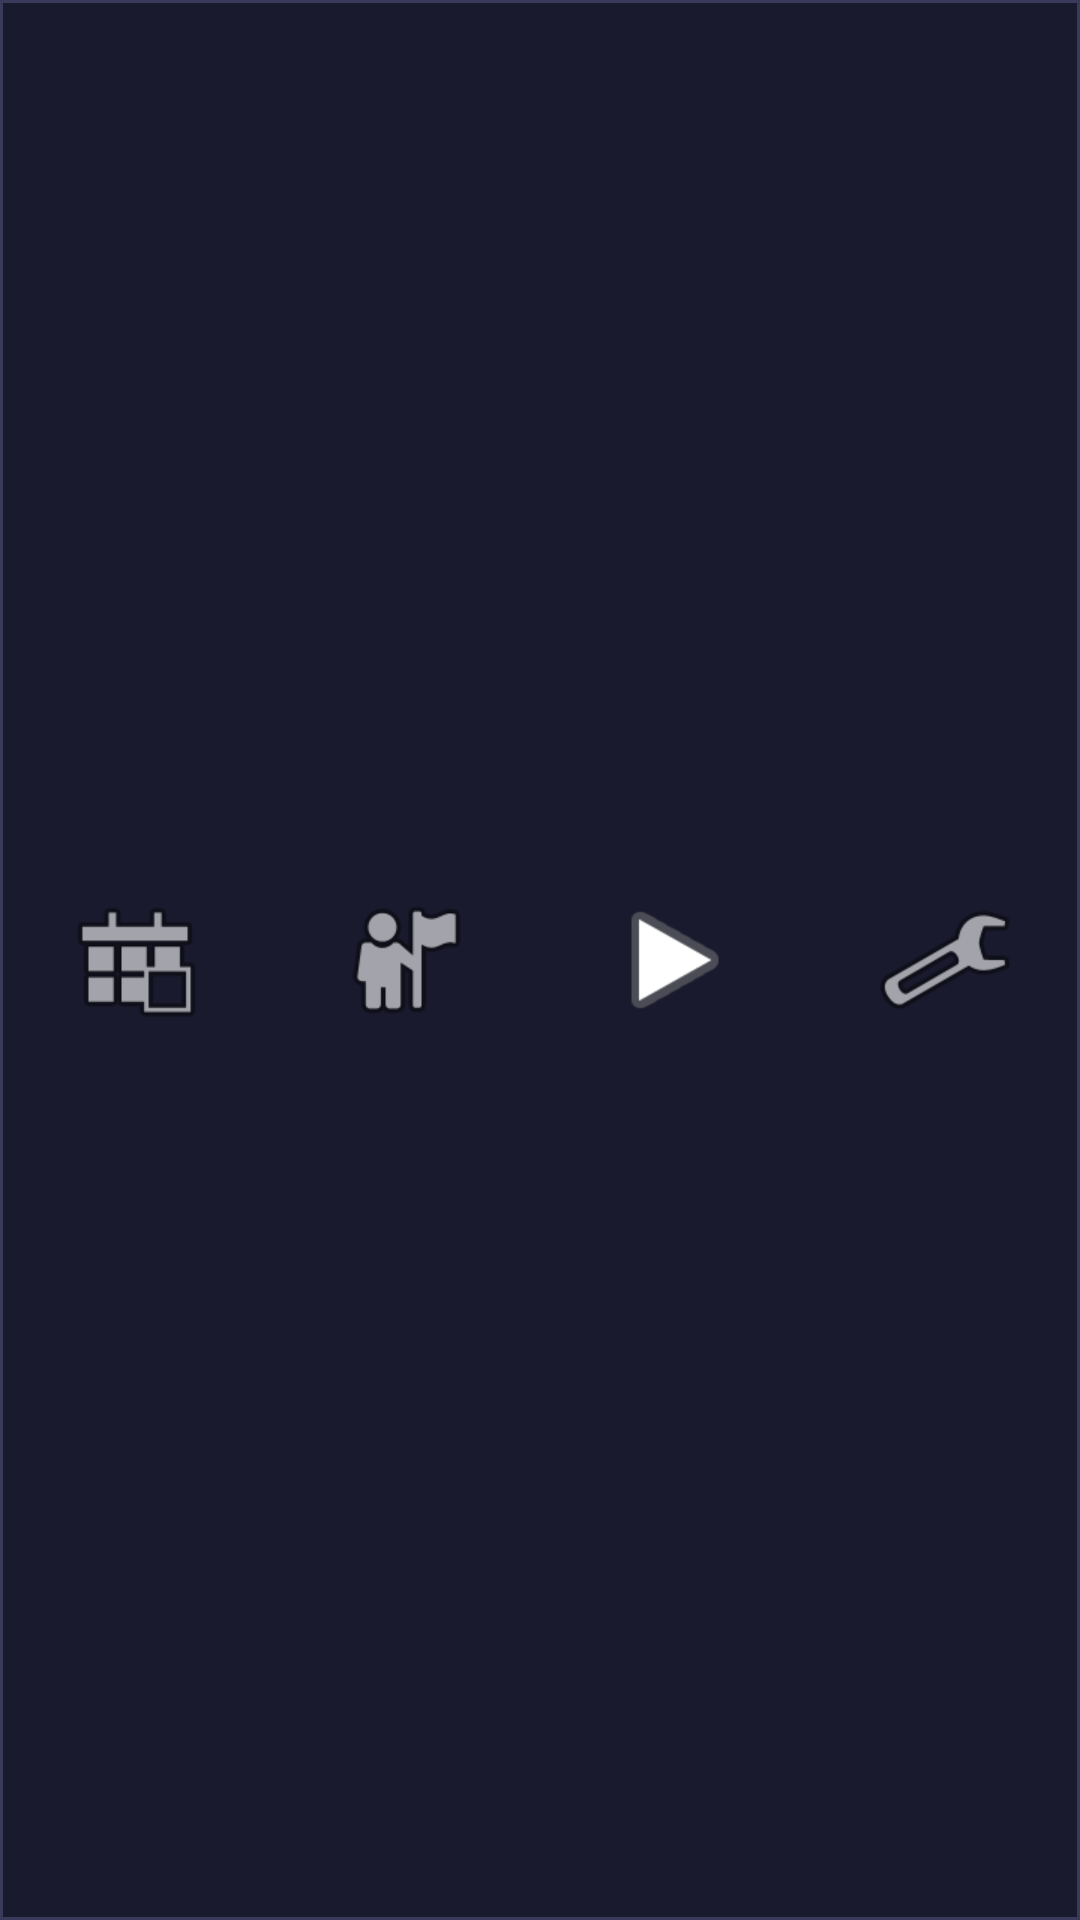

Screen size 1080px×1920px. Icon name, then its box in pixels as (x1, y1, x2, y2):
Character: (357, 911, 456, 1009)
Settings: (885, 915, 1005, 1005)
